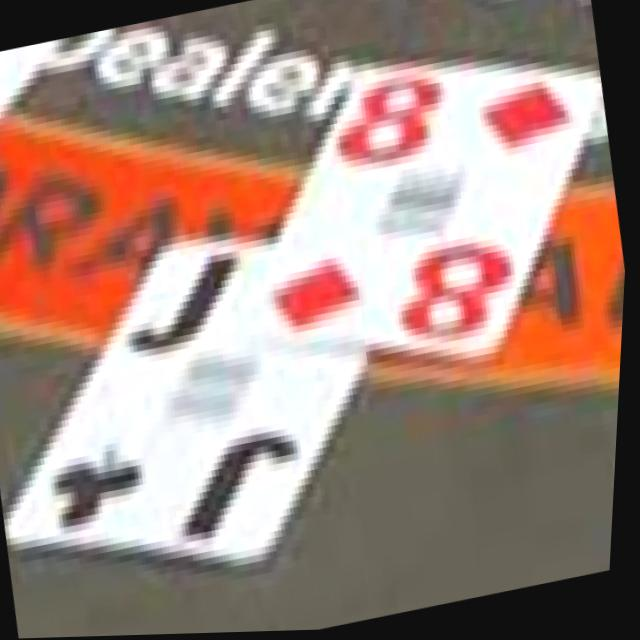Card-8: (247, 64, 600, 361)
Card-J: (11, 242, 368, 566)
